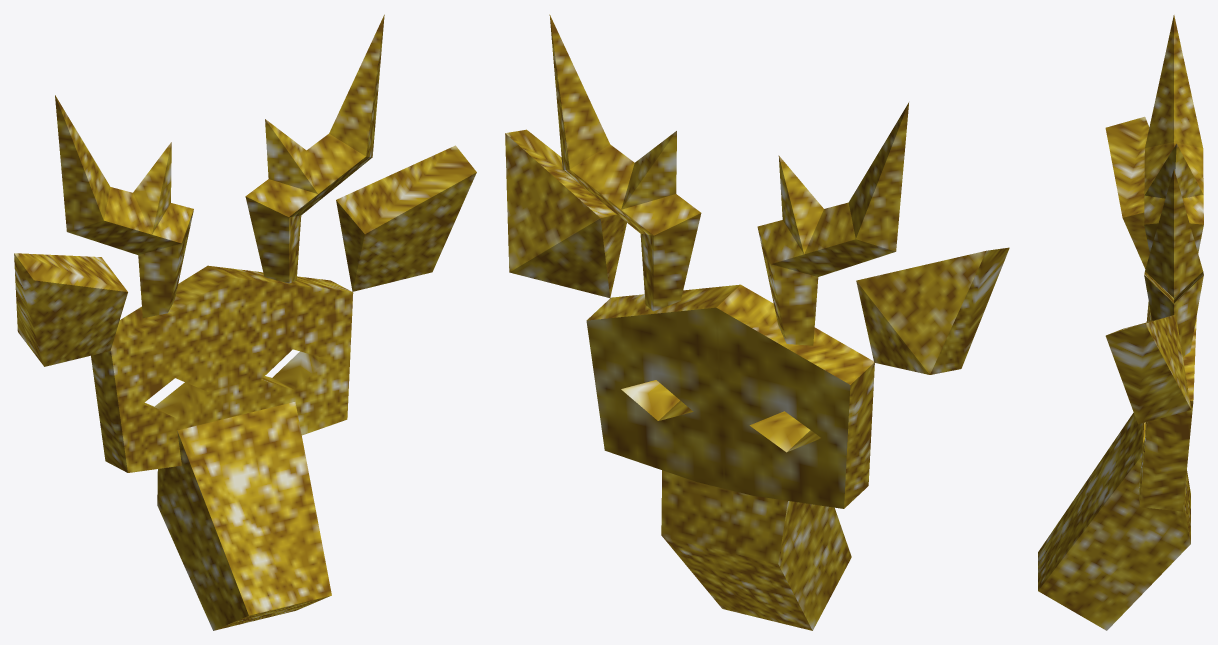
File: mask_deer.glb
The picture shows the model from 3 angles, left to right: view 1: azimuth 30°, elevation 25°; view 2: azimuth 150°, elevation 25°; view 3: azimuth 270°, elevation 25°; orthographic projection. The views are drawn at different scales.
Visible parts, largest first — view 1: mask_deer_geo; view 2: mask_deer_geo; view 3: mask_deer_geo.
Boxes of the visible parts, x1,y1,x2,y2 form: mask_deer_geo: (14, 14, 476, 630); mask_deer_geo: (505, 14, 1009, 630); mask_deer_geo: (1038, 15, 1203, 630).
Bounding box in the file's own units: 0.5942 × 0.6935 × 0.2004.
1 material, 1 textured.
